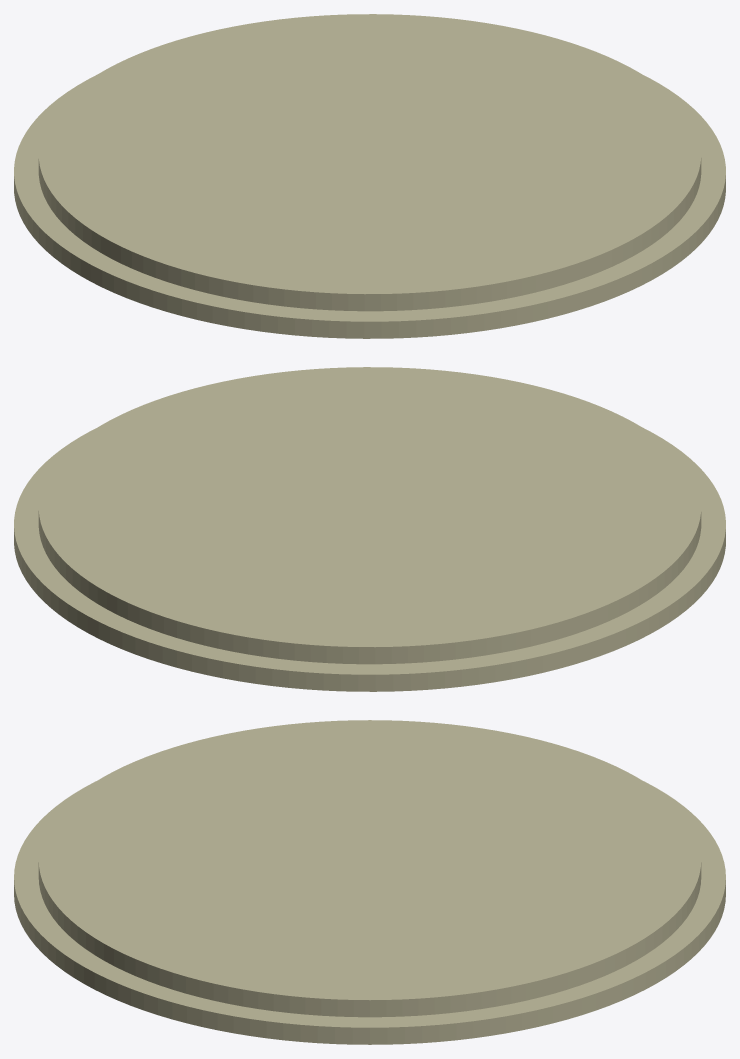
The model's file is observatory--pale-limestone.glb.
The picture shows the model from 3 angles, top to bottom: view 1: azimuth 30°, elevation 25°; view 2: azimuth 150°, elevation 25°; view 3: azimuth 270°, elevation 25°; orthographic projection.
Parts seen in each view (by area): view 1: observatory; view 2: observatory; view 3: observatory.
Boxes of the visible parts, x1,y1,x2,y2 form: observatory: [14, 14, 725, 338]; observatory: [14, 367, 725, 691]; observatory: [14, 720, 725, 1044].
Size of the model in its own units: 4.9 by 0.26 by 4.9.
